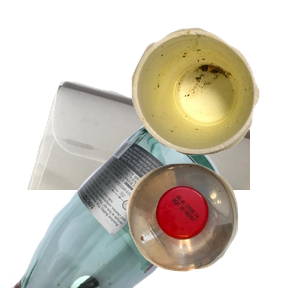glass: (10, 120, 224, 300)
paper: (25, 79, 265, 259)
plastic: (124, 161, 300, 300)
trash: (129, 25, 300, 173)
